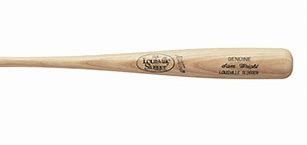bat: (1, 46, 294, 81)
